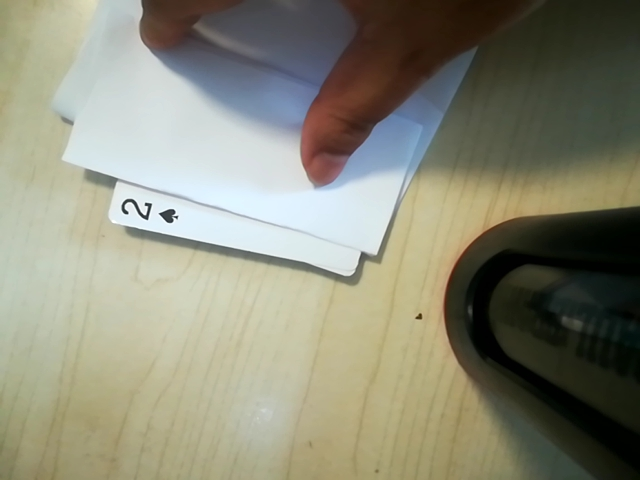ht 2: (114, 178, 186, 237)
